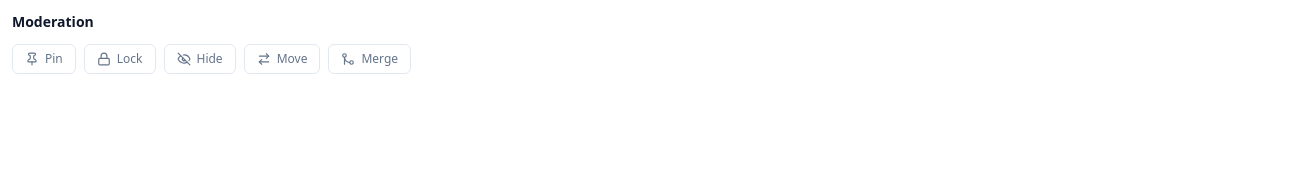
ModerationActions › shows no-boards message when boards empty
Click the button with test id "action-move-toggle".
click(282, 59)  # box [244,44,320,74]
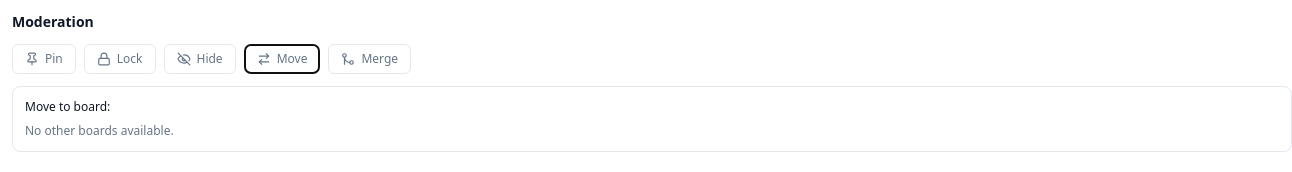
Expected: the text "No other boards available." is shown, [25,122,174,139]
